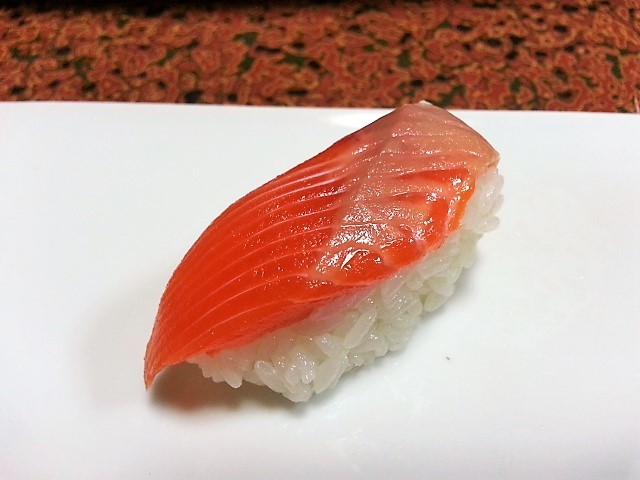salmon: (144, 103, 508, 417)
